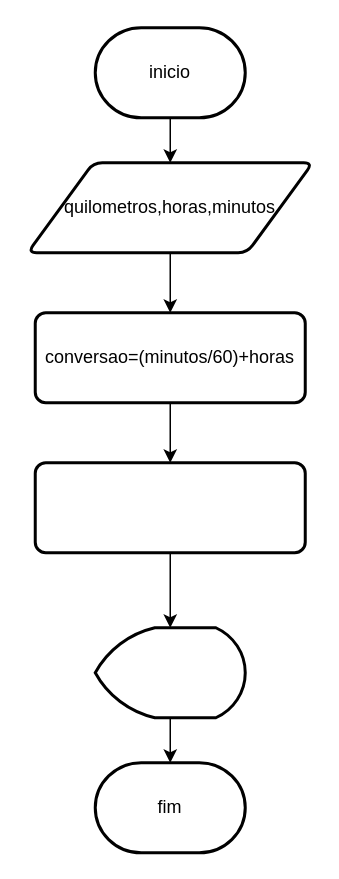
Image size: 339x879. Some labels were removed from this diagram. Each missing label, with the box of its shape:
velocidade: (93, 626, 246, 718)
velocidade=km/conversao: (33, 460, 306, 554)
